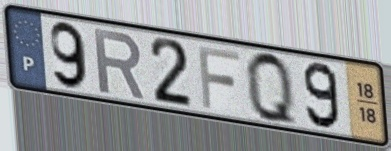2: (148, 35, 195, 111)
9: (48, 20, 90, 91), (302, 60, 342, 130)
F: (196, 43, 242, 111)
Q: (243, 48, 301, 131)
R: (91, 25, 147, 102)
